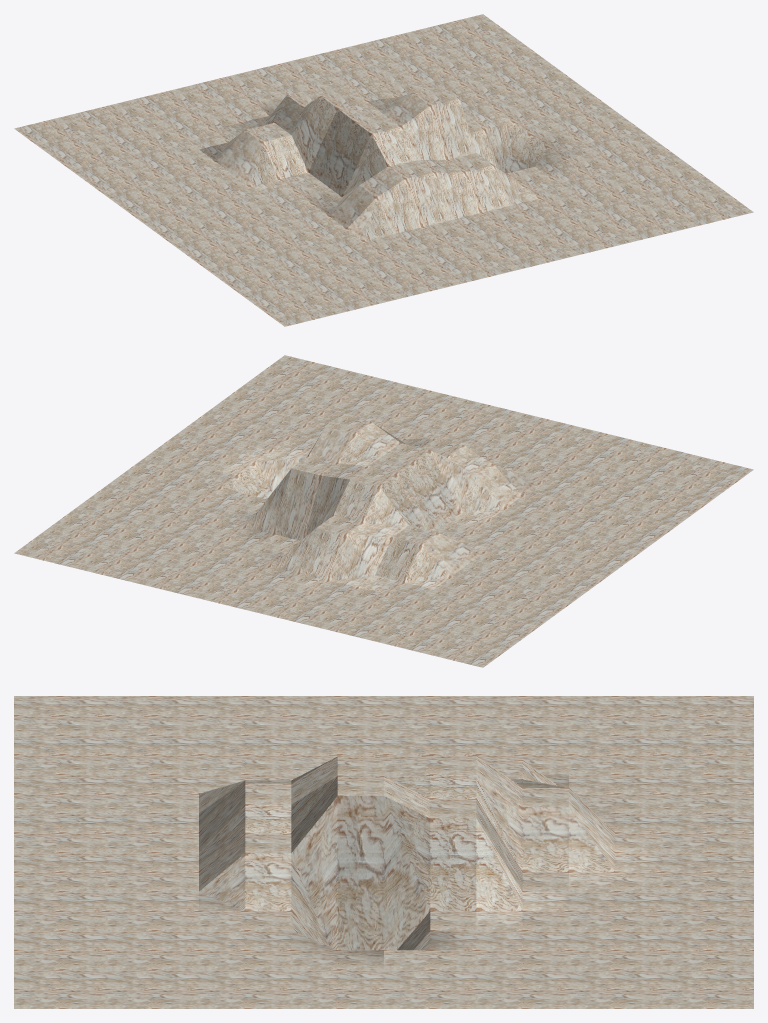
File: courser13a.obj
3 renders of one model, top to bottom at view 1: azimuth 30°, elevation 25°; view 2: azimuth 150°, elevation 25°; view 3: azimuth 270°, elevation 25°, orthographic. The views are drawn at different scales.
Parts seen in each view (by area): view 1: Plane; view 2: Plane; view 3: Plane.
Part boxes in pixels (box(x1,y1,x2,y2)): Plane: box(14, 14, 753, 326); Plane: box(14, 355, 753, 667); Plane: box(14, 696, 753, 1008).
Size of the model in its own units: 40 by 8.93 by 40.
Materials: 1 (1 with a texture image).
